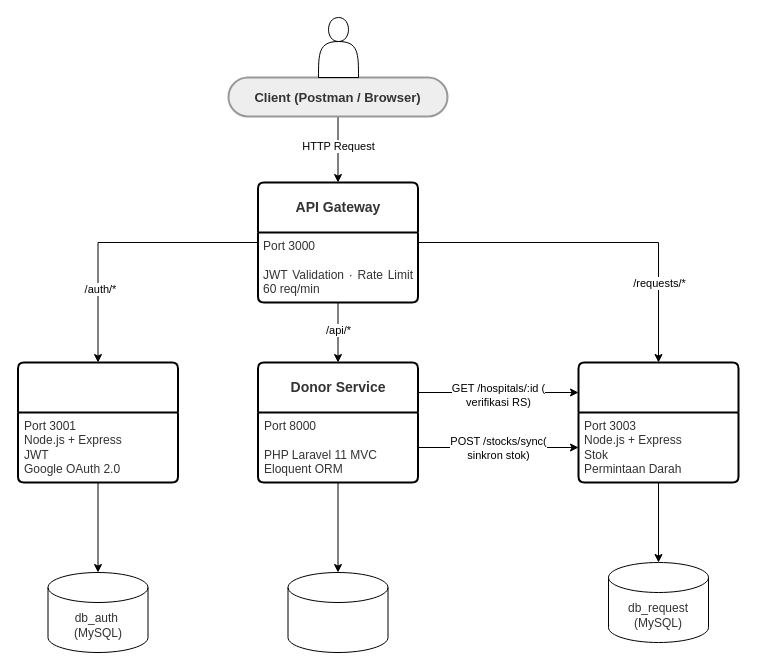
This 757x670 diagram has some shape labels left out. Here are the shapes that lost their labels. From the top down, the box of each, then its label:
(16, 361, 178, 483): Auth Service
(577, 361, 739, 483): Request Service
(287, 572, 388, 652): db_donor (MySQL)
